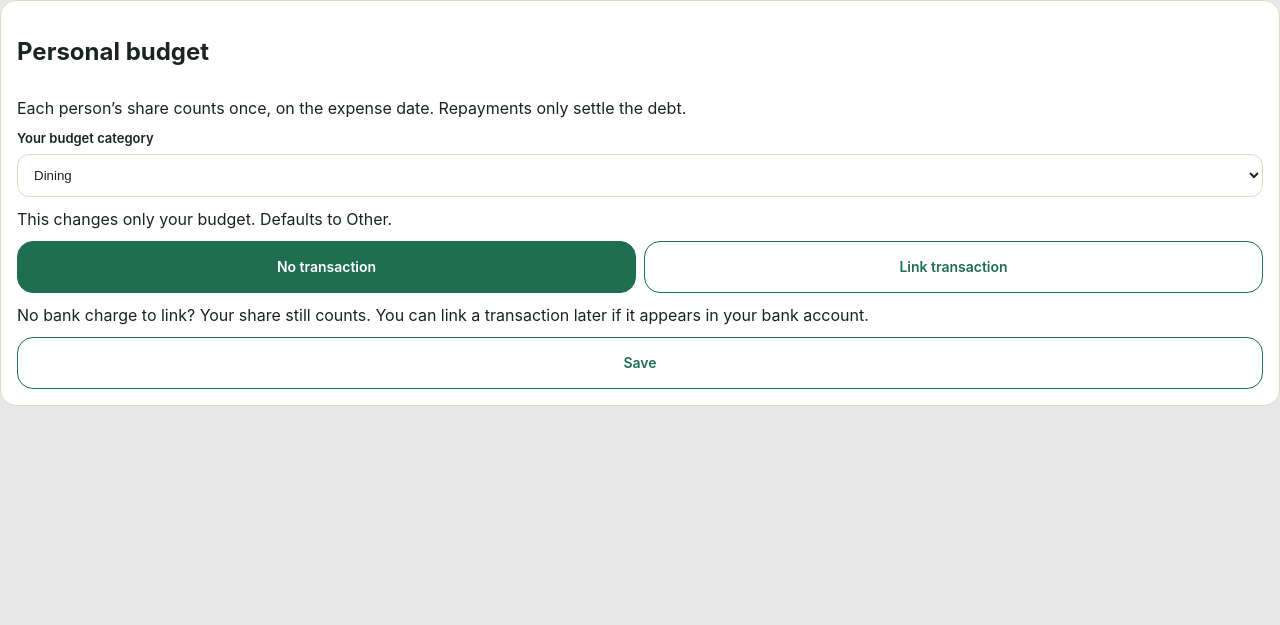
Scenario: shows a different-amount charge and explains its budget impact
The width and height of the screenshot is (1280, 625).
Click the button "Link transaction": (954, 267) [644,241,1263,293]
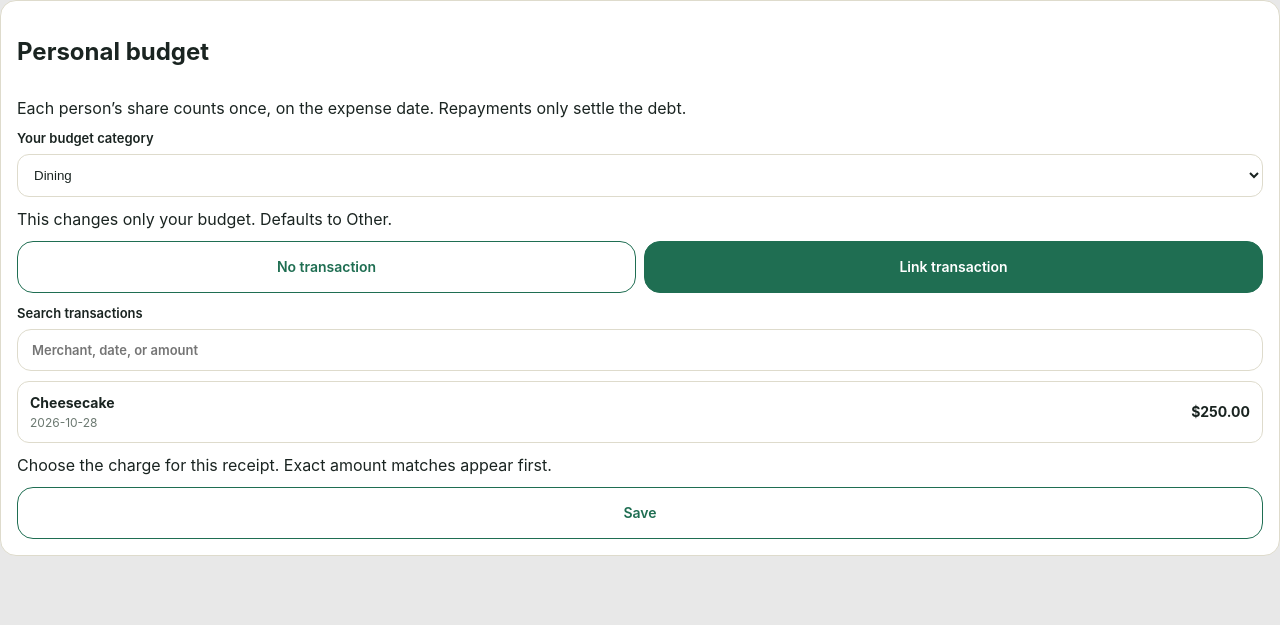
Click the button "Cheesecake 2026-10-28 $250.00": (72, 402) [17,381,1263,443]
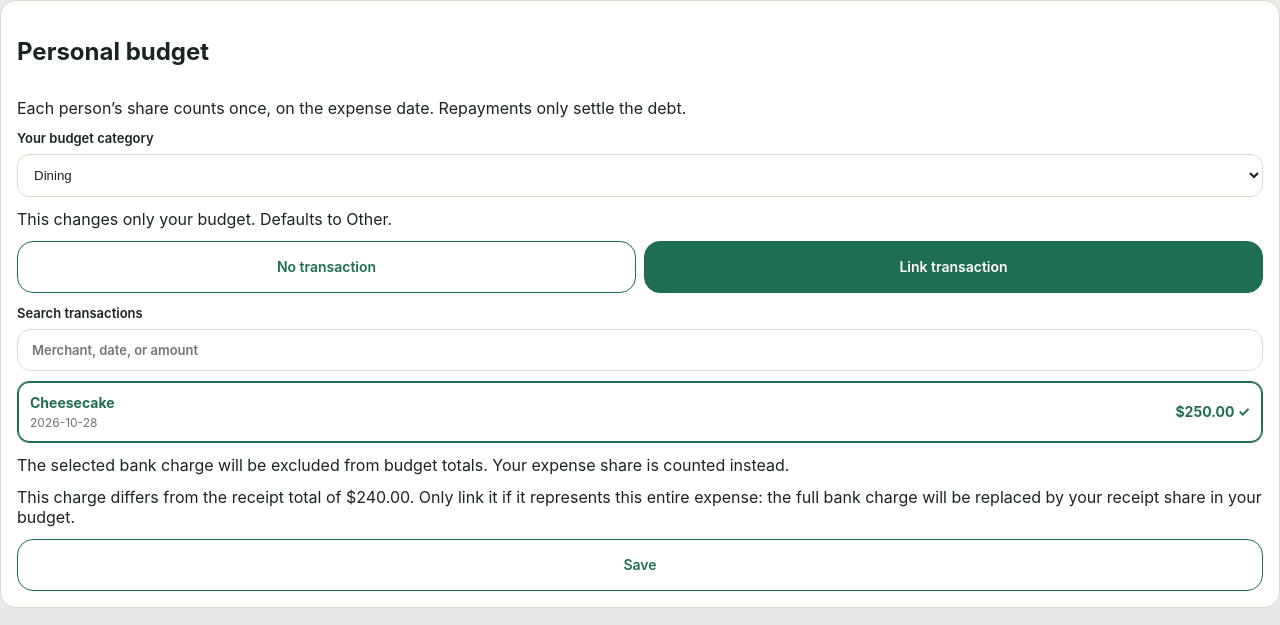
Check: the text "differs from the receipt total of $240.00" is shown, box [17,487,1263,527]
